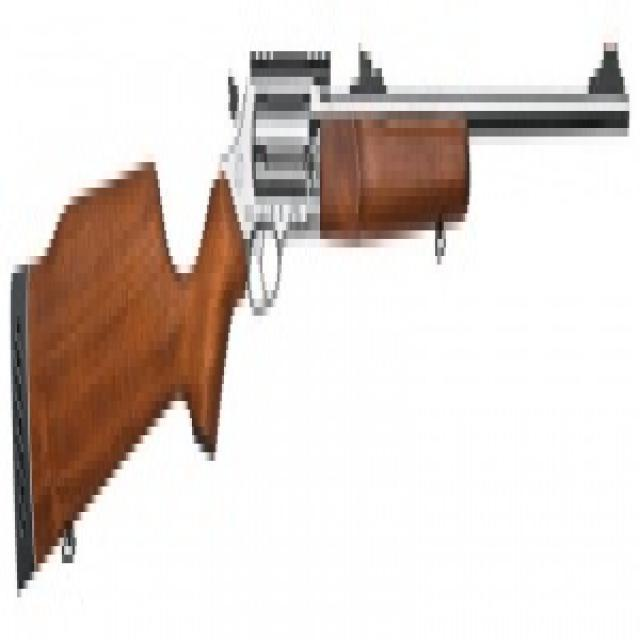weapon: (9, 27, 631, 601)
